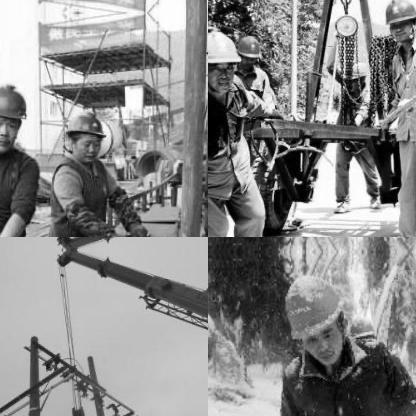Helmet: (278, 266, 344, 367), (58, 105, 106, 163), (0, 79, 33, 151), (208, 28, 240, 89), (383, 0, 415, 47), (232, 32, 262, 70), (350, 314, 376, 350), (343, 58, 367, 92)
